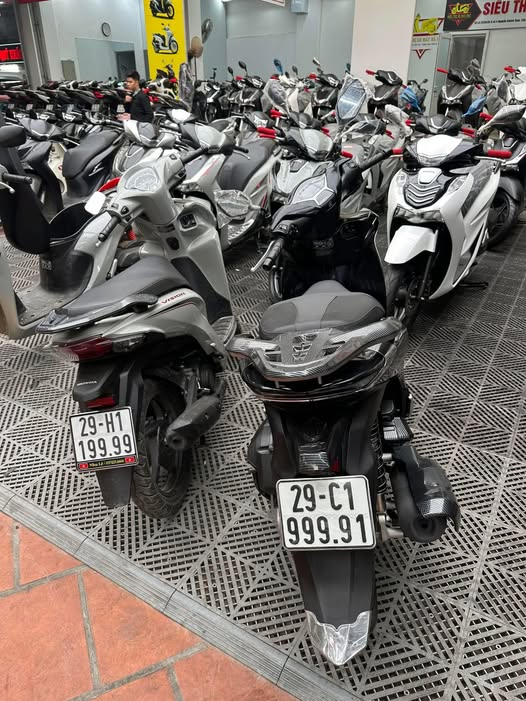bien_so: (270, 472, 383, 557), (66, 401, 146, 478)
